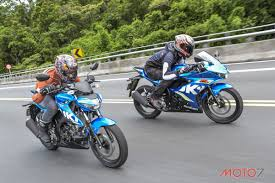helmet: (52, 56, 78, 79), (173, 35, 195, 54)
